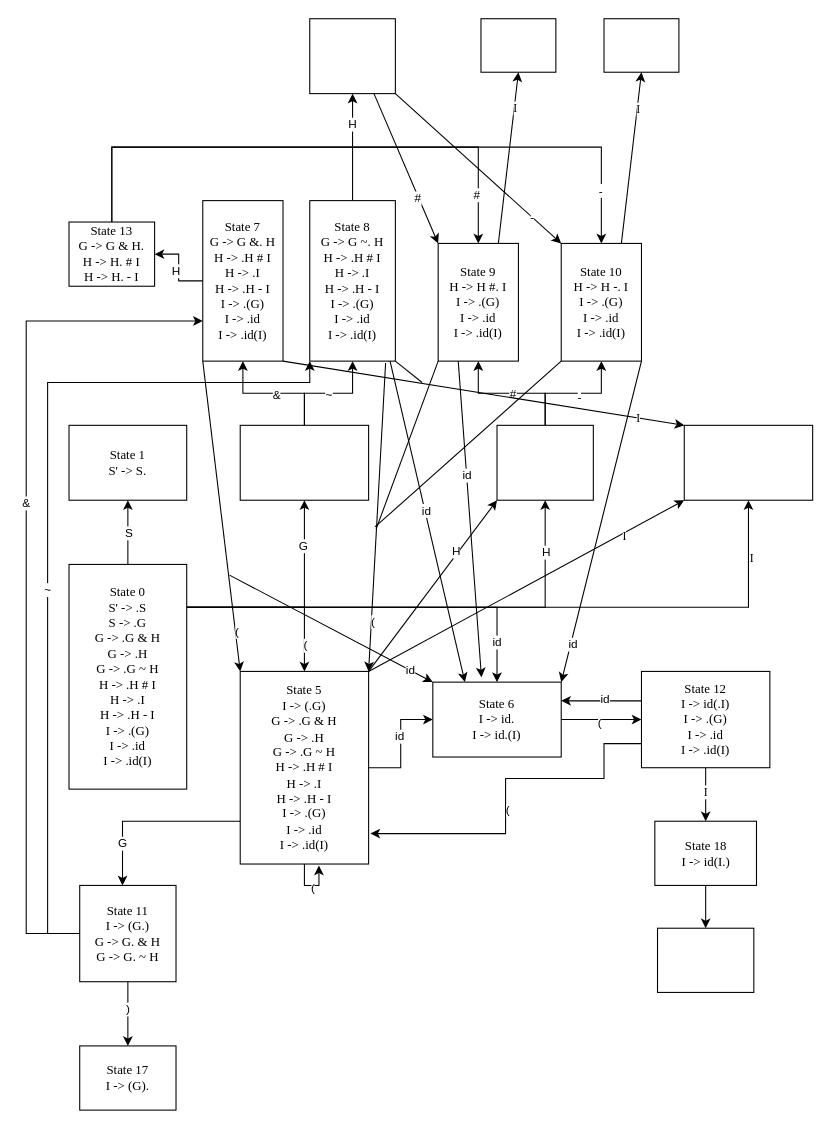
Image size: 831x1129. Some labels were removed from this diagram. Each missing label, with the centre of its shape:
State 14 G -> G ~ H. H -> H. # I H -> H. - I: [352,56]
State 15 H -> H # I.: [518,45]
State 16 H -> H - I.: [641,45]
State 19 I -> id(I).: [705,959]
State 2 S -> G. G -> G. & H G -> G. ~ H: [304,462]
State 3 G -> H. H -> H. # I H -> H. - I: [544,462]
State 4 H -> I.: [748,462]
